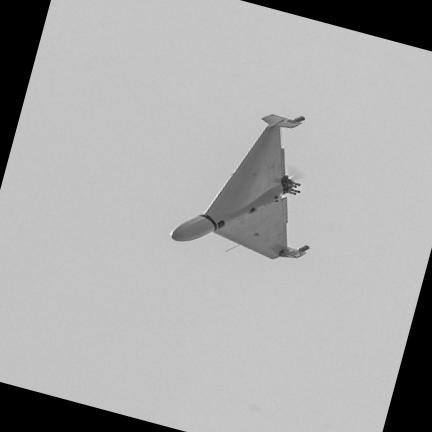Shahed: (171, 115, 309, 259)
